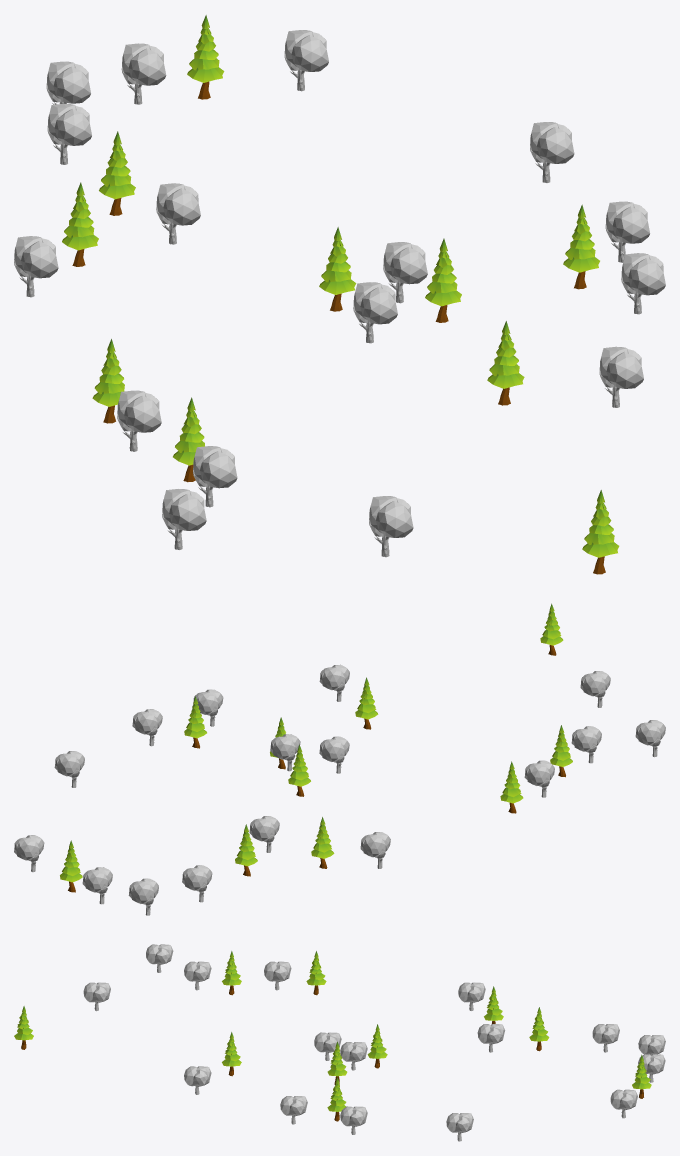
The model's file is alberiDiversi.obj.
3 renders of one model, top to bottom at view 1: azimuth 30°, elevation 25°; view 2: azimuth 150°, elevation 25°; view 3: azimuth 270°, elevation 25°, orthographic. The views are drawn at different scales.
Parts seen in each view (by area): view 1: Icosphere.008_Icosphere.009, Icosphere.012_Icosphere.013, Icosphere.005_Icosphere.006, Icosphere.009_Icosphere.010, Icosphere.001_Icosphere.002, Icosphere.003_Icosphere.004, Icosphere.013_Icosphere.014, Icosphere.015_Icosphere.016, Icosphere.014_Icosphere.015, Icosphere_Icosphere.001, Icosphere.006_Icosphere.007, Icosphere.002_Icosphere.003 (+14 smaller); view 2: Icosphere_Icosphere.001, Icosphere.014_Icosphere.015, Icosphere.008_Icosphere.009, Icosphere.009_Icosphere.010, Icosphere.016_Icosphere.017, Icosphere.005_Icosphere.006, Icosphere.007_Icosphere.008, Icosphere.015_Icosphere.016, Icosphere.002_Icosphere.003, Icosphere.003_Icosphere.004, Icosphere.010_Icosphere.011, Icosphere.011_Icosphere.012 (+13 smaller); view 3: Icosphere.011_Icosphere.012, Icosphere_Icosphere.001, Icosphere.007_Icosphere.008, Icosphere.008_Icosphere.009, Icosphere.006_Icosphere.007, Icosphere.010_Icosphere.011, Icosphere.009_Icosphere.010, Icosphere.002_Icosphere.003, Icosphere.016_Icosphere.017, Icosphere.001_Icosphere.002, Icosphere.003_Icosphere.004, Icosphere.013_Icosphere.014 (+14 smaller).
Part boxes in pixels (x1,y1,x2,y2): Icosphere.008_Icosphere.009: (117, 390, 161, 432); Icosphere.012_Icosphere.013: (156, 183, 200, 225); Icosphere.005_Icosphere.006: (353, 282, 397, 324); Icosphere.009_Icosphere.010: (162, 489, 206, 530); Icosphere.001_Icosphere.002: (621, 253, 665, 295); Icosphere.003_Icosphere.004: (383, 242, 427, 284); Icosphere.013_Icosphere.014: (47, 103, 91, 145); Icosphere.015_Icosphere.016: (46, 61, 90, 103); Icosphere.014_Icosphere.015: (121, 43, 166, 85); Icosphere_Icosphere.001: (605, 201, 650, 243); Icosphere.006_Icosphere.007: (599, 346, 643, 388); Icosphere.002_Icosphere.003: (284, 30, 328, 71); Icosphere_Icosphere.001: (132, 709, 162, 735); Icosphere.014_Icosphere.015: (82, 867, 112, 893); Icosphere.008_Icosphere.009: (524, 760, 554, 786); Icosphere.009_Icosphere.010: (635, 720, 665, 746); Icosphere.016_Icosphere.017: (54, 751, 84, 777); Icosphere.005_Icosphere.006: (319, 736, 349, 762); Icosphere.007_Icosphere.008: (571, 726, 601, 752); Icosphere.015_Icosphere.016: (128, 878, 158, 904); Icosphere.002_Icosphere.003: (14, 835, 44, 861); Icosphere.003_Icosphere.004: (270, 734, 300, 760); Icosphere.010_Icosphere.011: (580, 671, 610, 697); Icosphere.011_Icosphere.012: (360, 832, 390, 858); Icosphere.011_Icosphere.012: (458, 982, 485, 1002); Icosphere_Icosphere.001: (340, 1106, 367, 1126); Icosphere.007_Icosphere.008: (184, 961, 211, 981); Icosphere.008_Icosphere.009: (264, 961, 291, 981); Icosphere.006_Icosphere.007: (184, 1066, 211, 1086); Icosphere.010_Icosphere.011: (83, 982, 110, 1002); Icosphere.009_Icosphere.010: (146, 944, 173, 964); Icosphere.002_Icosphere.003: (610, 1089, 637, 1109); Icosphere.016_Icosphere.017: (446, 1113, 473, 1132); Icosphere.001_Icosphere.002: (280, 1096, 307, 1115); Icosphere.003_Icosphere.004: (340, 1042, 367, 1061); Icosphere.013_Icosphere.014: (592, 1024, 619, 1043).
Size of the model in its own units: 180 by 20.67 by 279.
